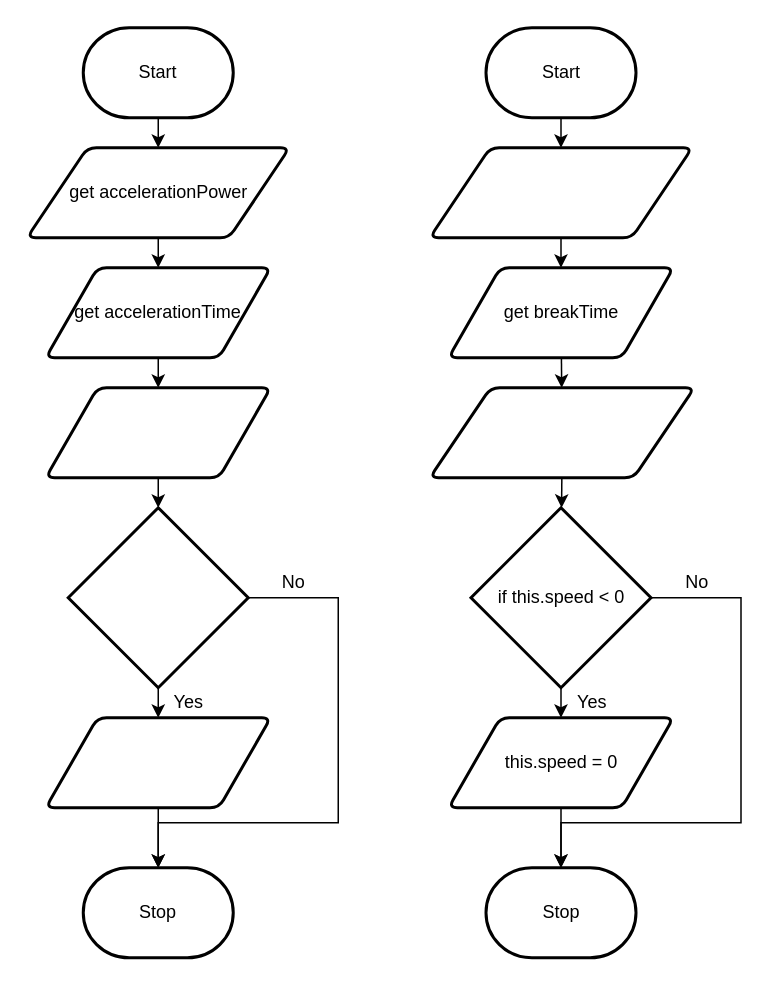
Some shapes in this 780 by 984 pixel diagram are drawn without their labels. Each missing label, with the centre of its shape:
"get breakPower" belongs at (x=560, y=192).
"if this.speed > this.maxSpeed" belongs at (x=157, y=597).
"this.speed = accelerationPower * accelerationTime + this.speed" belongs at (x=158, y=432).
"this.speed = this.maxSpeed" belongs at (x=158, y=762).
"this.speed = this.speed - breakPower * breakTime" belongs at (x=561, y=432).
